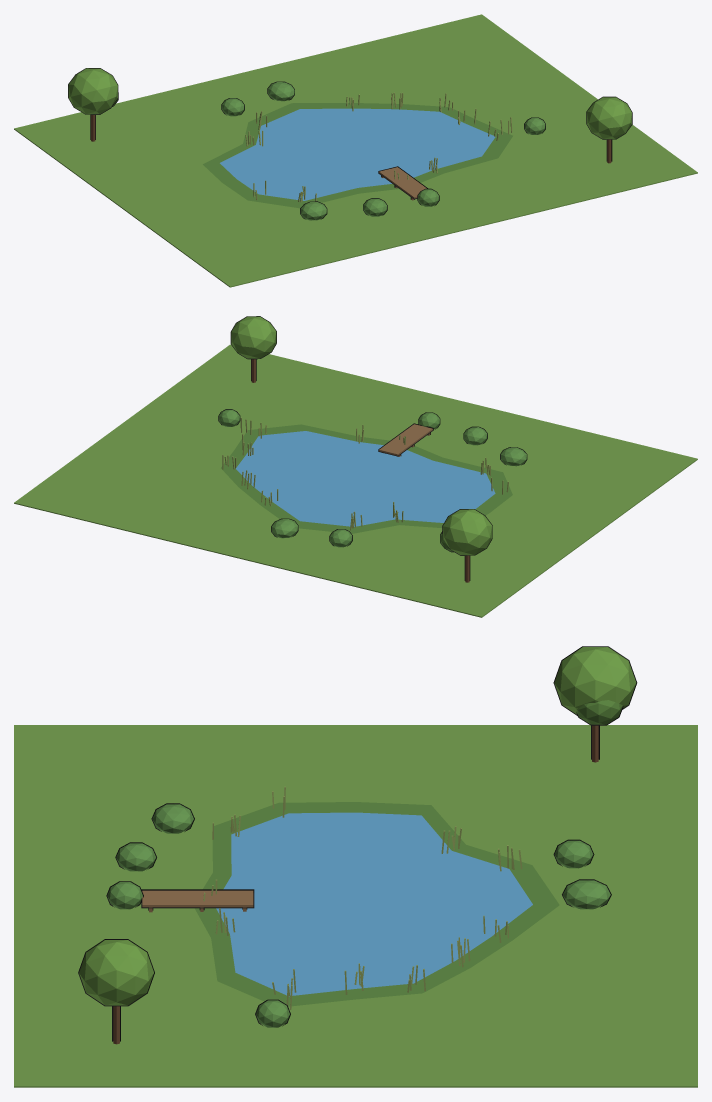
The model's file is Kir_alan_gol_1.fbx.
The picture shows the model from 3 angles, top to bottom: view 1: azimuth 30°, elevation 25°; view 2: azimuth 150°, elevation 25°; view 3: azimuth 270°, elevation 25°; orthographic projection. The views are drawn at different scales.
Visible parts, largest first — view 1: Kir_alan_gol_1; view 2: Kir_alan_gol_1; view 3: Kir_alan_gol_1.
Part boxes in pixels (bbox=[...]): Kir_alan_gol_1: bbox=[14, 14, 697, 287]; Kir_alan_gol_1: bbox=[14, 316, 697, 617]; Kir_alan_gol_1: bbox=[14, 646, 697, 1087].
Size of the model in its own units: 50 by 7.5 by 40.
